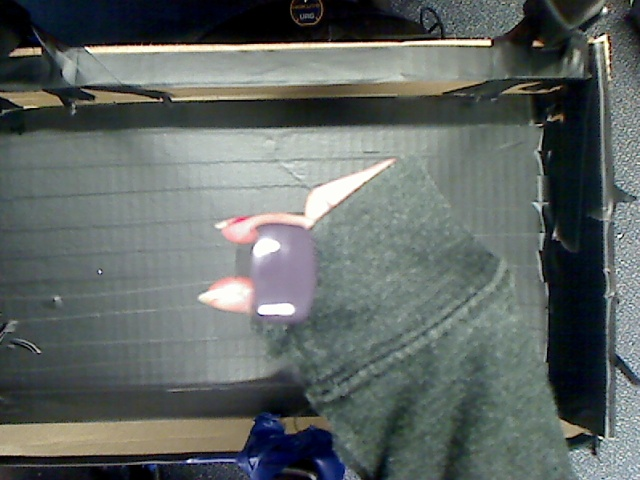knife: (225, 211, 333, 347)
